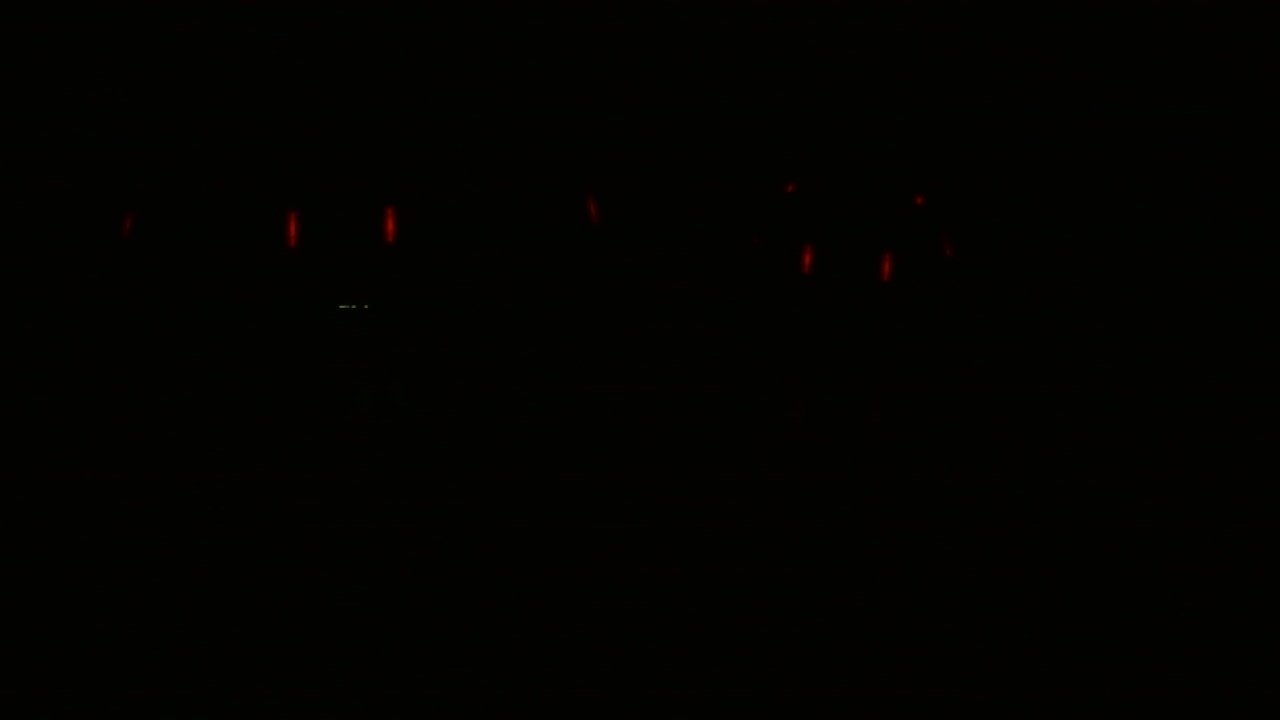pair1: (283, 201, 400, 255)
pair2: (796, 238, 902, 288)
